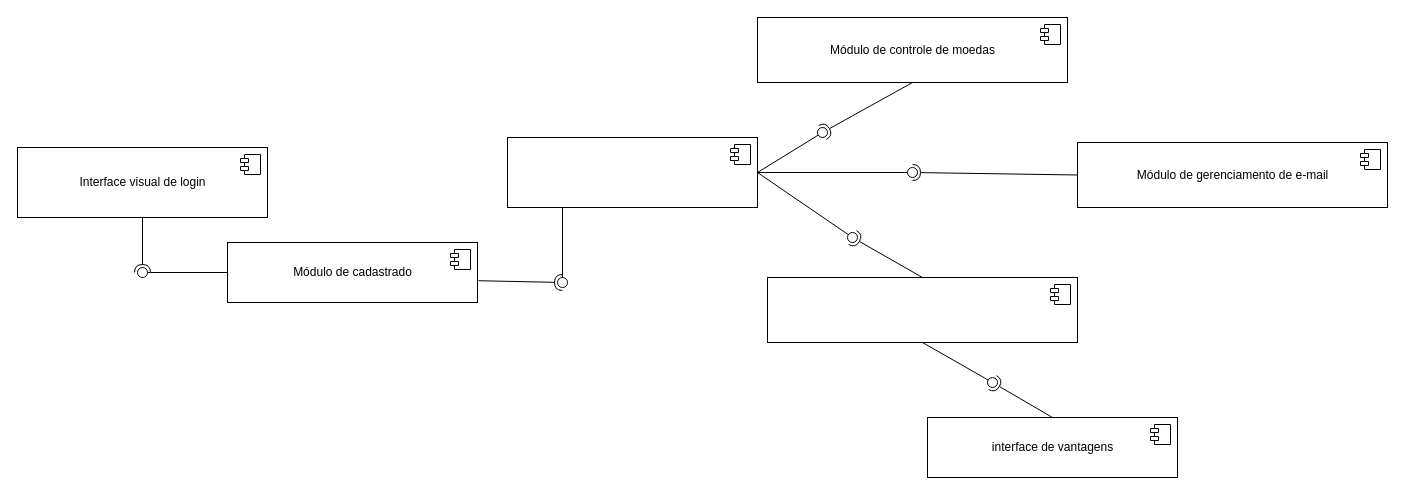
Some shapes in this 1405 by 495 pixel diagram are drawn without their labels. The box of each missing label's shape, as (x1, y1, x2, y2) in pixels:
Módulo de controle de informações gerenciais: (766, 276, 1078, 342)
SGBD: (506, 136, 758, 208)
